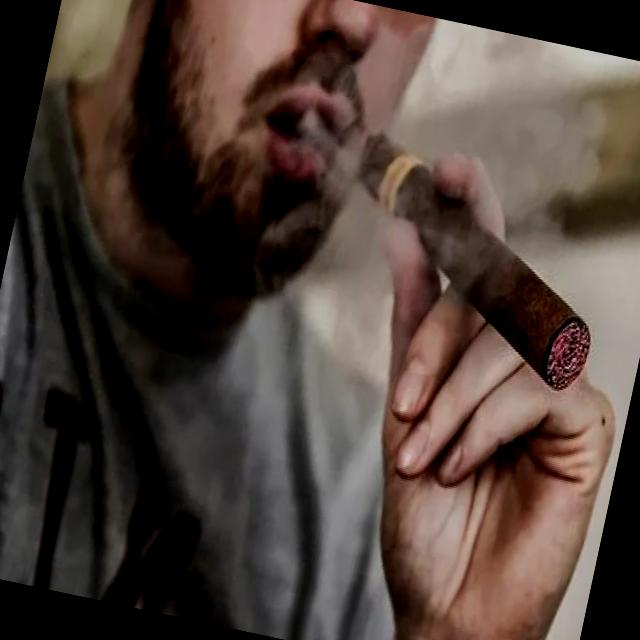smoke: (300, 120, 627, 403)
